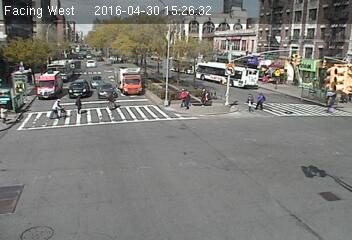neg: (3, 174, 34, 216), (276, 24, 306, 64), (55, 149, 83, 186), (161, 181, 186, 215), (231, 142, 254, 172), (305, 155, 327, 186), (220, 22, 242, 51), (212, 54, 231, 80), (56, 47, 74, 71), (188, 127, 206, 151), (159, 26, 176, 49), (110, 27, 127, 49), (113, 169, 130, 191), (20, 30, 37, 52), (119, 66, 135, 88), (15, 71, 29, 90), (80, 45, 92, 61)
pos: (240, 90, 256, 111), (48, 98, 64, 119), (108, 92, 123, 112), (177, 88, 191, 107), (257, 89, 271, 107), (72, 93, 86, 111), (326, 95, 338, 112), (202, 90, 212, 103)
